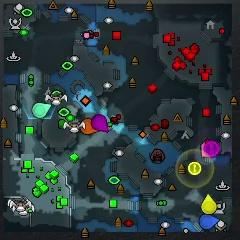Other: (204, 141, 220, 156), (188, 162, 201, 175)
p1: (198, 213, 220, 229)
p2: (32, 101, 52, 118)
p3: (91, 113, 109, 132)
p4: (200, 193, 217, 214)
p5: (79, 118, 98, 136)
x1: (200, 143, 213, 159)
